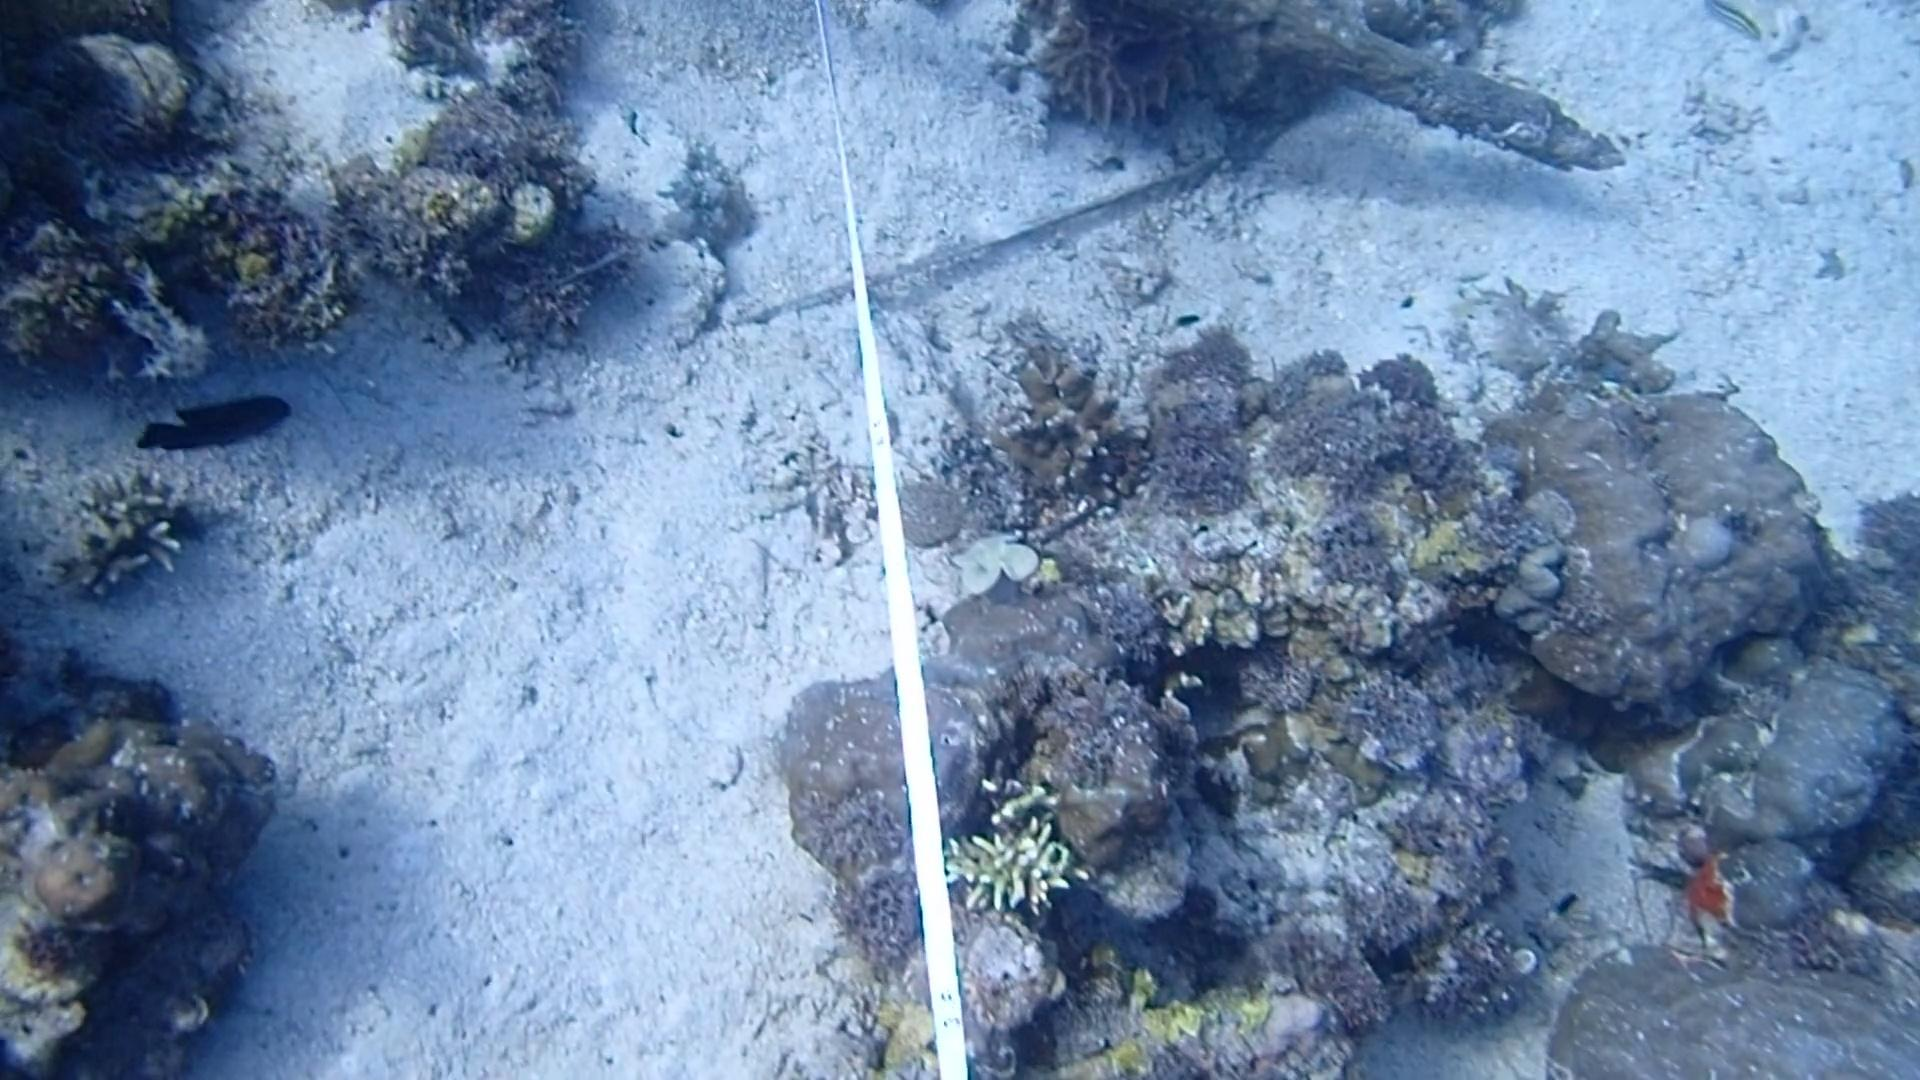Dark Fish: (132, 392, 297, 464)
